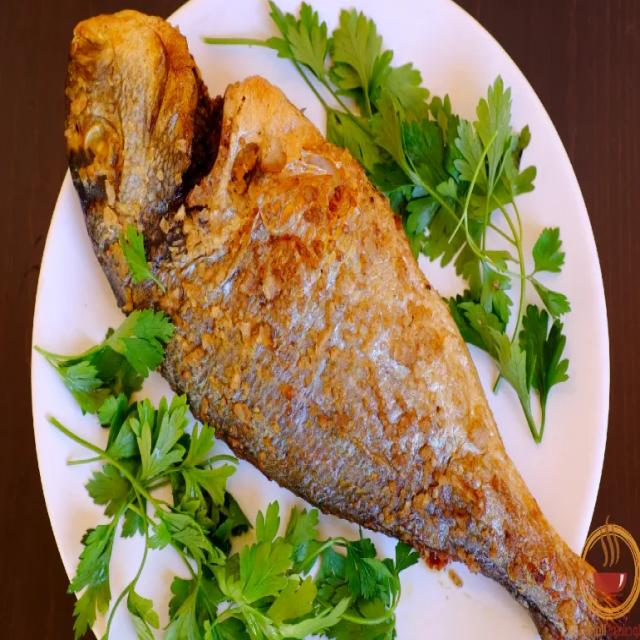Peixe: (62, 8, 628, 638)
